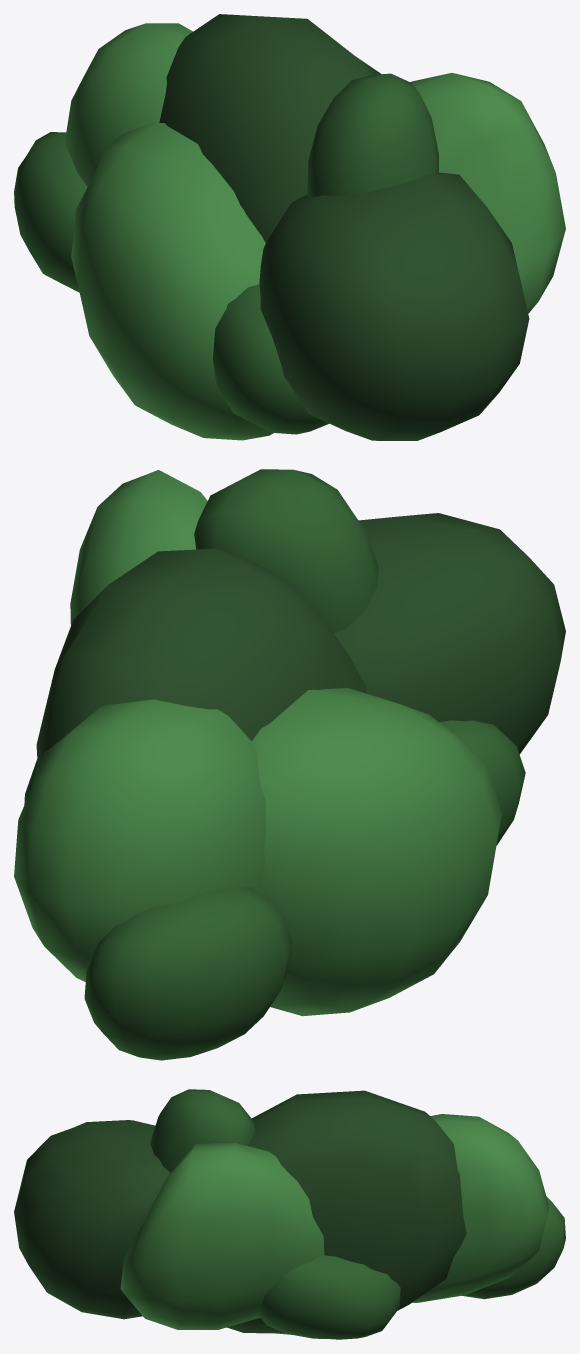
File: bushlowpoly.fbx
The picture shows the model from 3 angles, top to bottom: view 1: azimuth 30°, elevation 25°; view 2: azimuth 150°, elevation 25°; view 3: azimuth 270°, elevation 25°; orthographic projection. The views are drawn at different scales.
Parts seen in each view (by area): view 1: polySurface6; view 2: polySurface6; view 3: polySurface6.
Part boxes in pixels (x1,y1,x2,y2): polySurface6: [14, 14, 565, 440]; polySurface6: [14, 469, 565, 1060]; polySurface6: [14, 1089, 565, 1339].
Size of the model in its own units: 4.57 by 4.19 by 7.59.
